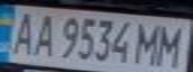3: (93, 16, 115, 63)
4: (112, 17, 139, 64)
5: (75, 14, 100, 62)
9: (54, 12, 81, 61)
A: (3, 8, 42, 56), (27, 10, 60, 58)
M: (151, 21, 190, 69), (130, 20, 166, 66)
